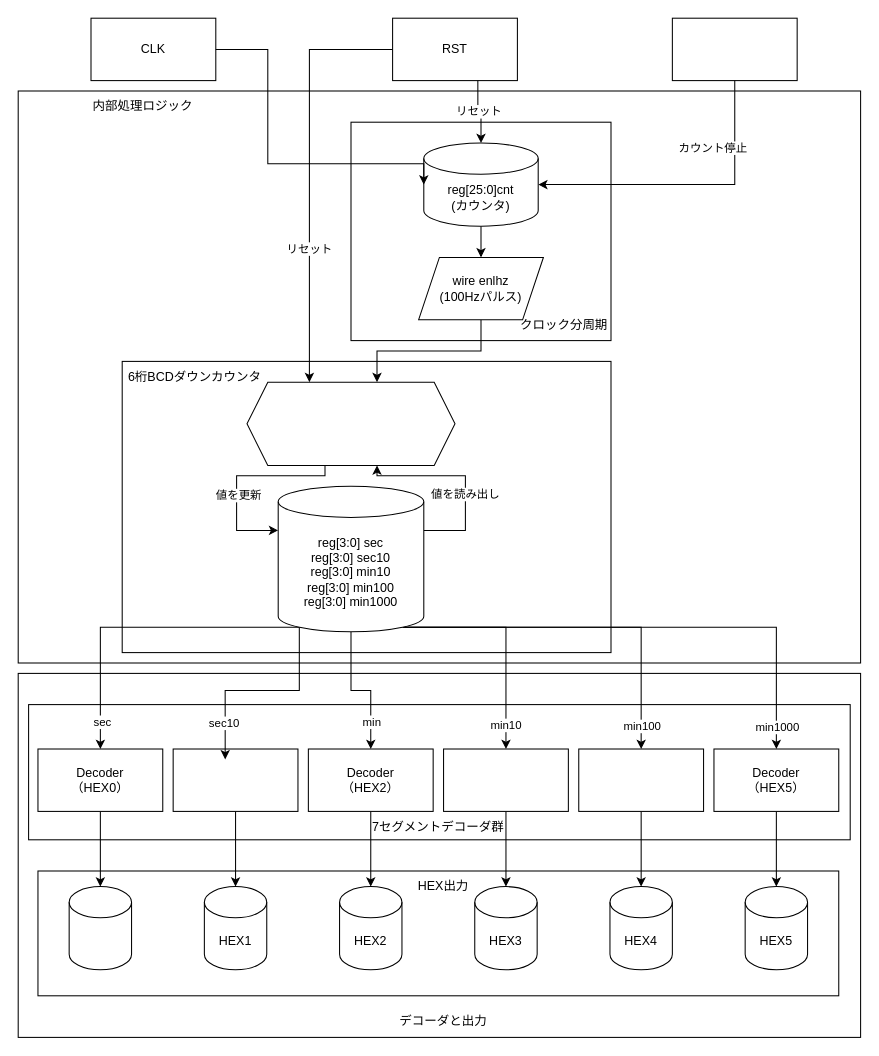
Some shapes in this 879 by 1056 pixel diagram are drawn without their labels. The centre of each missing label's shape, as x and y in pixels:
"always ブロック （初期化・カウントダウン処理）" belongs at (x=350, y=423).
"Decoder （HEX1）" belongs at (x=235, y=779).
"Decoder （HEX3）" belongs at (x=505, y=779).
"Decoder （HEX4）" belongs at (x=641, y=779).
"HEX0" belongs at (x=100, y=928).
"SW" belongs at (x=734, y=49).
